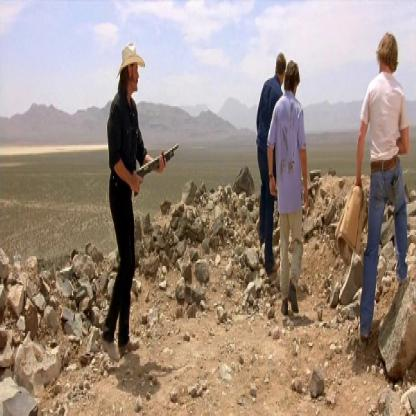Gun: (129, 138, 182, 196)
